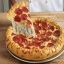pepperoni: (31, 21, 57, 43), (13, 33, 38, 47), (14, 8, 33, 23)
pizza: (7, 7, 62, 59)
